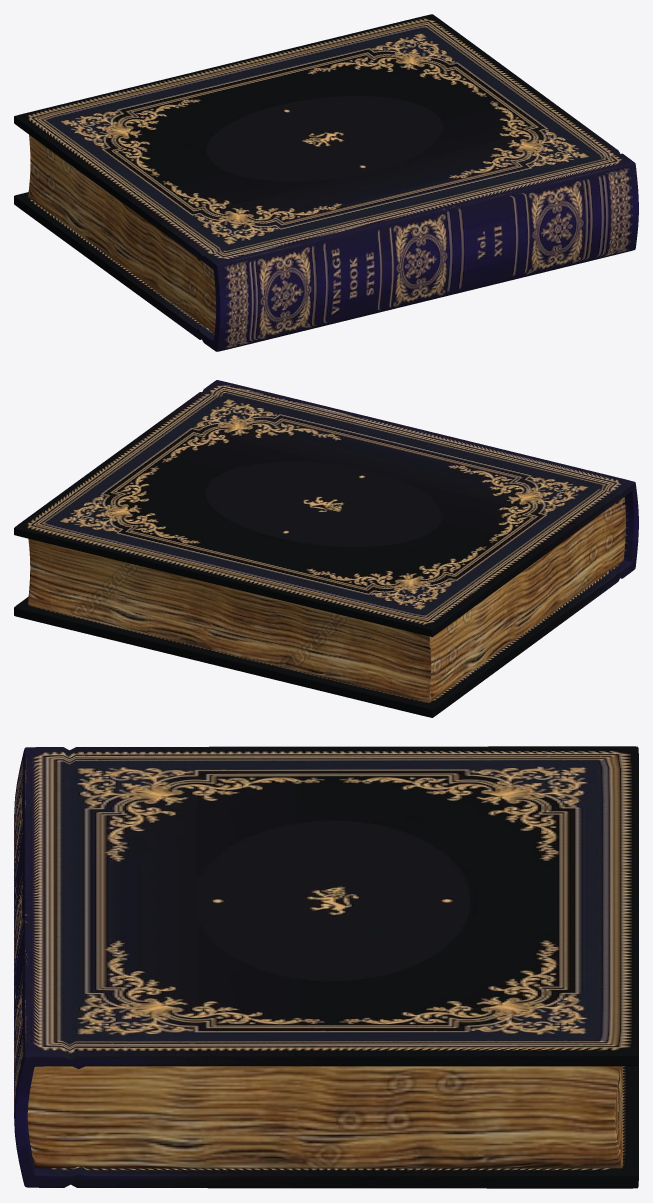
Rendered from new book.fbx.
3 views of the same model, one above another, from view 1: azimuth 30°, elevation 25°; view 2: azimuth 150°, elevation 25°; view 3: azimuth 270°, elevation 25° (orthographic). The views are drawn at different scales.
Parts seen in each view (by area): view 1: Cube, Cube.001; view 2: Cube, Cube.001; view 3: Cube, Cube.001.
Boxes of the visible parts, x1,y1,x2,y2 form: Cube: (14,14,638,351); Cube.001: (28,135,215,333); Cube: (14,380,638,717); Cube.001: (28,497,625,702); Cube: (14,746,638,1188); Cube.001: (27,1066,622,1168).
Bounding box in the file's own units: 200 × 40.57 × 171.
2 materials, 2 textured.
